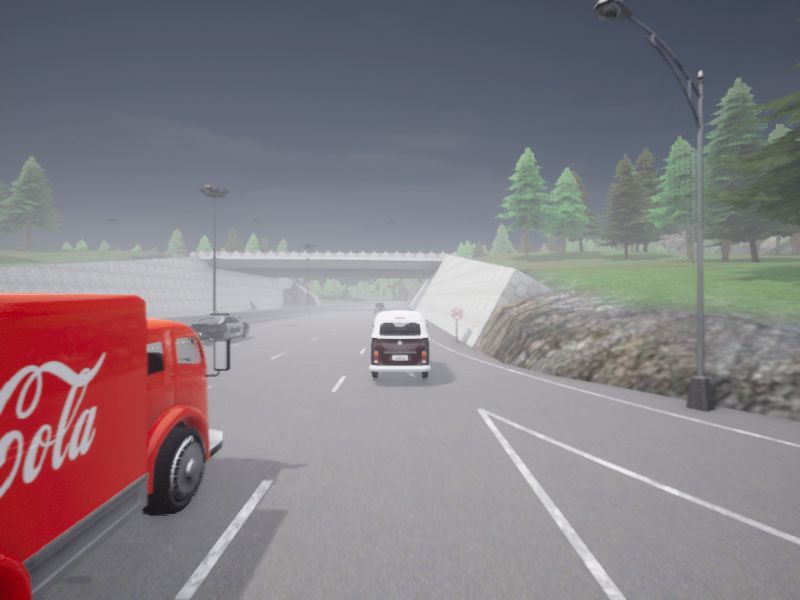vehicle: (0, 293, 229, 599), (370, 311, 430, 378), (187, 313, 248, 340), (374, 303, 385, 313)
